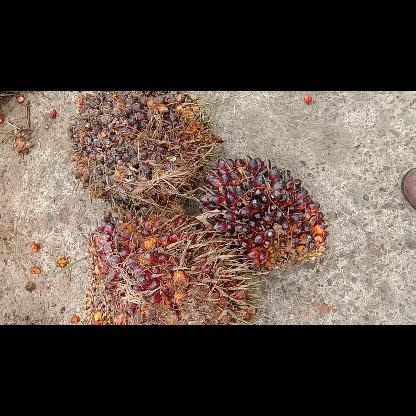Kurang masak: (68, 92, 216, 210), (200, 155, 328, 270)
TBS masak: (89, 212, 258, 324)
